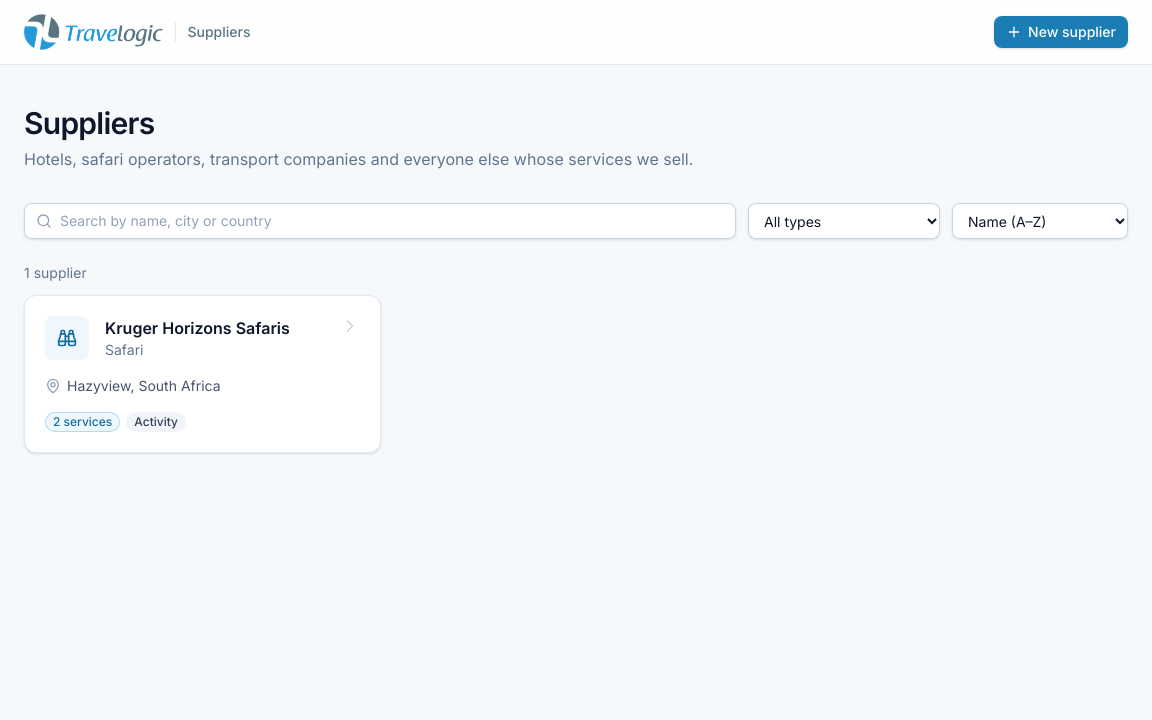
Test: Supplier list (home screen) › sends the search to the API after the user stops typing
Expected: the heading "Kruger Horizons Safaris" is shown, [105, 318, 290, 338]
Type "lodge" into the search field named "Search suppliers". click: (380, 221)
box: [24, 203, 736, 239]
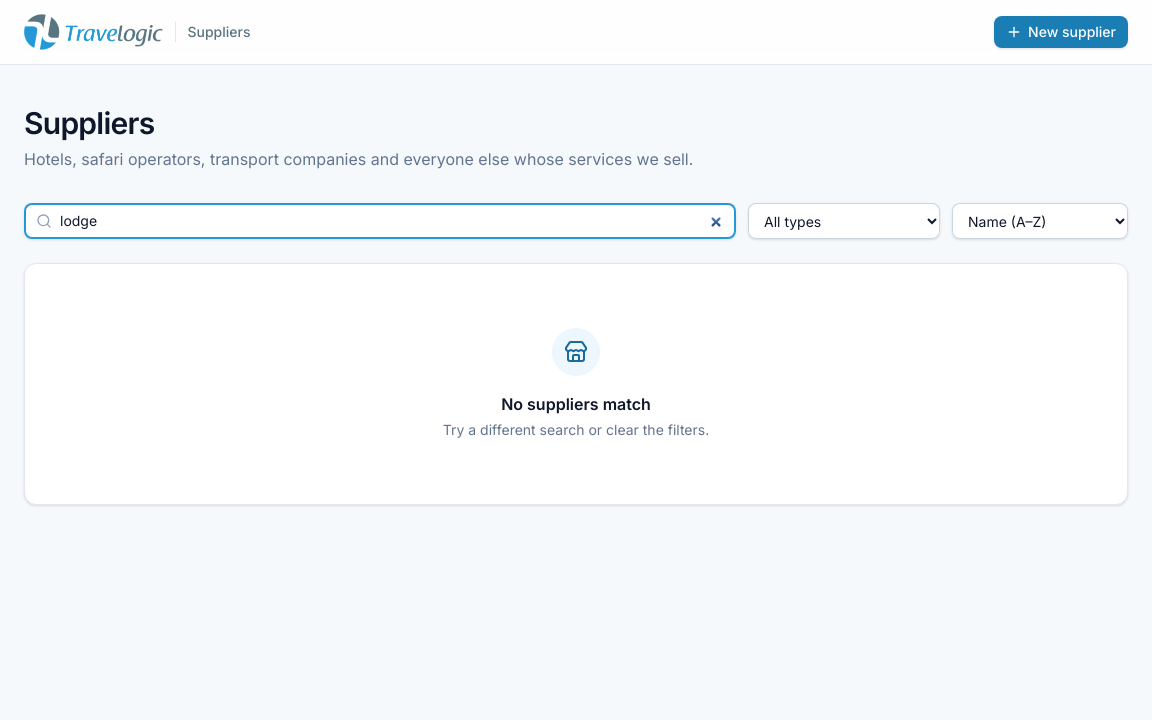
Result: the heading "No suppliers match" is shown at [501, 392, 651, 416]
